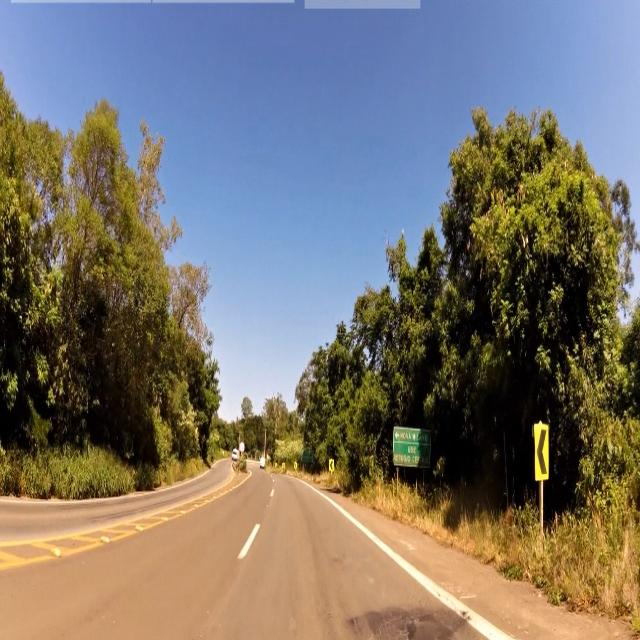Del: (534, 426, 552, 478)
I-4: (393, 426, 430, 463)
